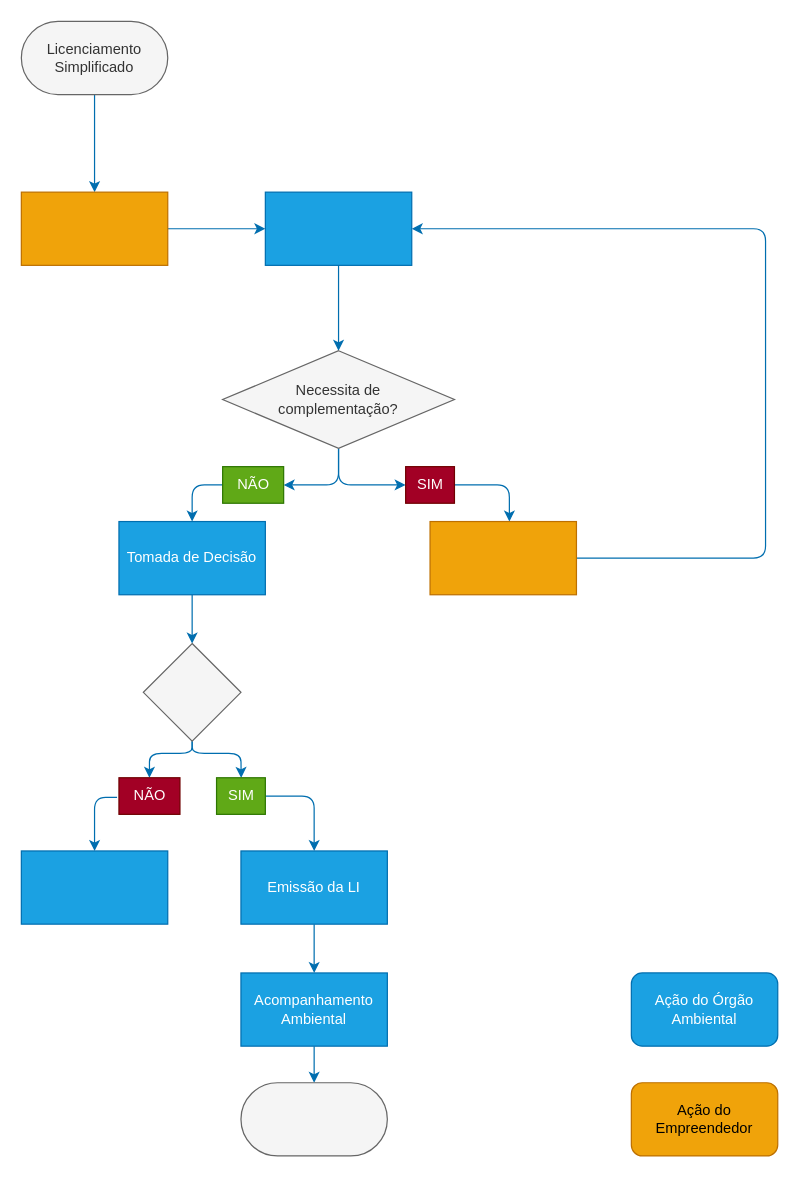
The diagram is 799 pixels wide and 1177 high, and some of its shapes have lost their labels. Each missing label, with the centre of its shape:
Análise dos RAS: the point at 338,228
Elaboração das complementações: the point at 502,557
Encerramento do Processo: the point at 94,887
Licenciamento de Operação: the point at 313,1119
Processo Deferido: the point at 191,691
Requerimento de LI: the point at 94,228
